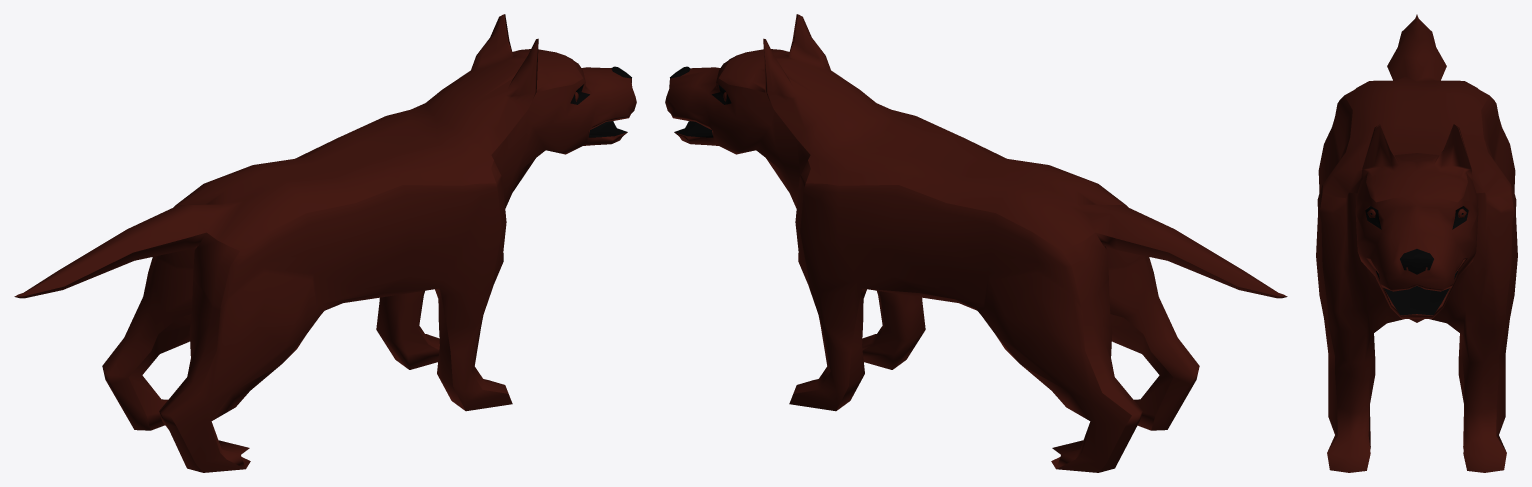
Rendered from Dogfbx02.fbx.
3 views of the same model, side by side, from view 1: azimuth 30°, elevation 25°; view 2: azimuth 150°, elevation 25°; view 3: azimuth 270°, elevation 25° (orthographic). The views are drawn at different scales.
Parts seen in each view (by area): view 1: pCube1; view 2: pCube1; view 3: pCube1.
Boxes of the visible parts, bbox=[...] form: pCube1: bbox=[14, 14, 636, 472]; pCube1: bbox=[665, 14, 1287, 472]; pCube1: bbox=[1316, 14, 1517, 472].
Bounding box in the file's own units: 21.18 × 11.13 × 5.49.
